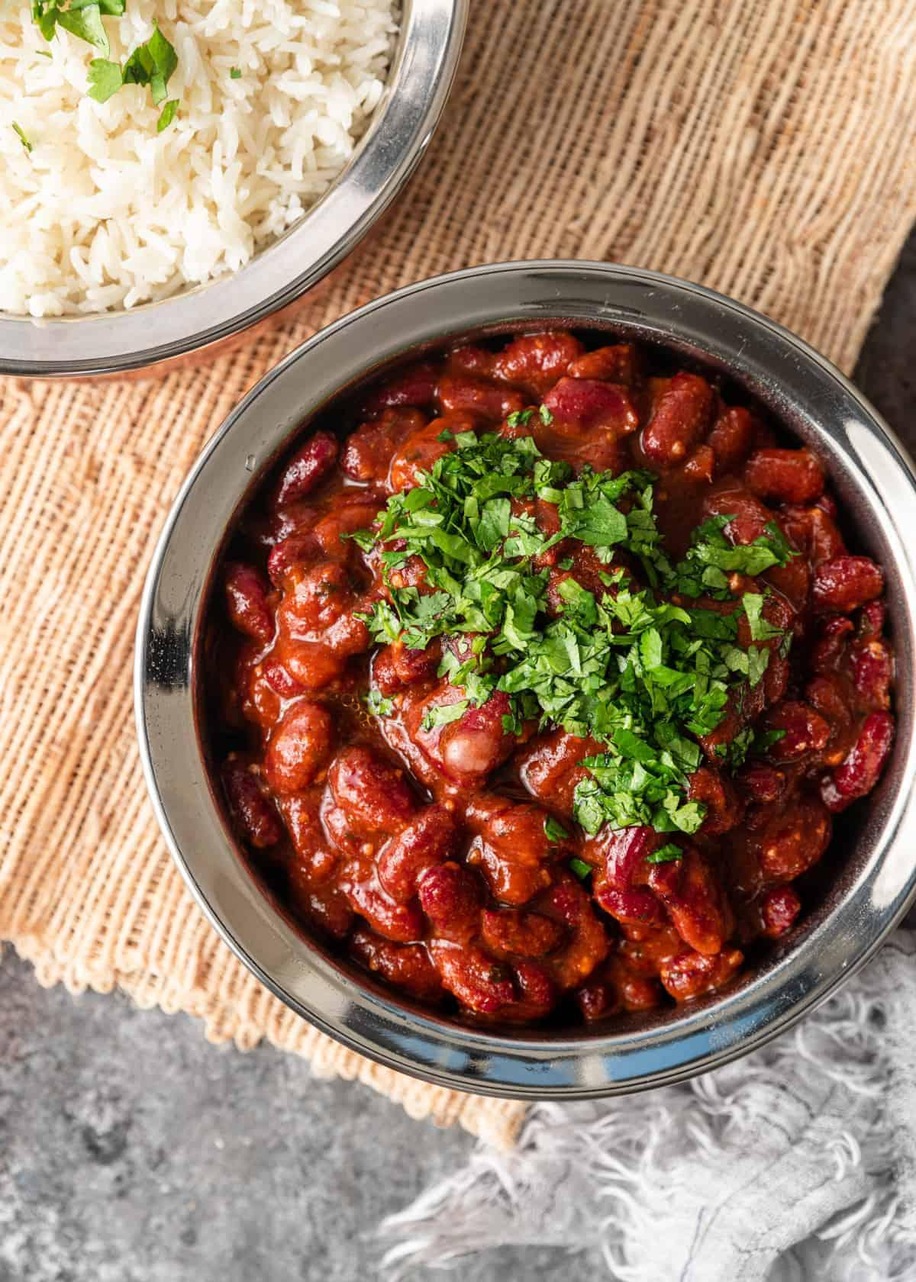rajma: (176, 351, 916, 1057)
rice: (19, 0, 370, 355)
